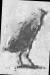G43: (3, 0, 48, 74)
